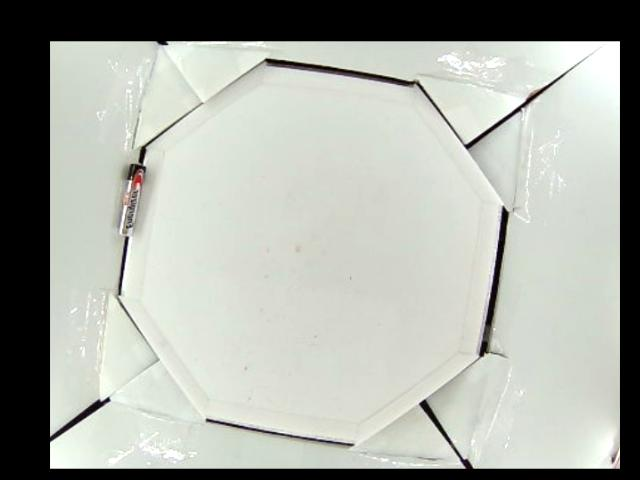Battery: (120, 163, 146, 238)
